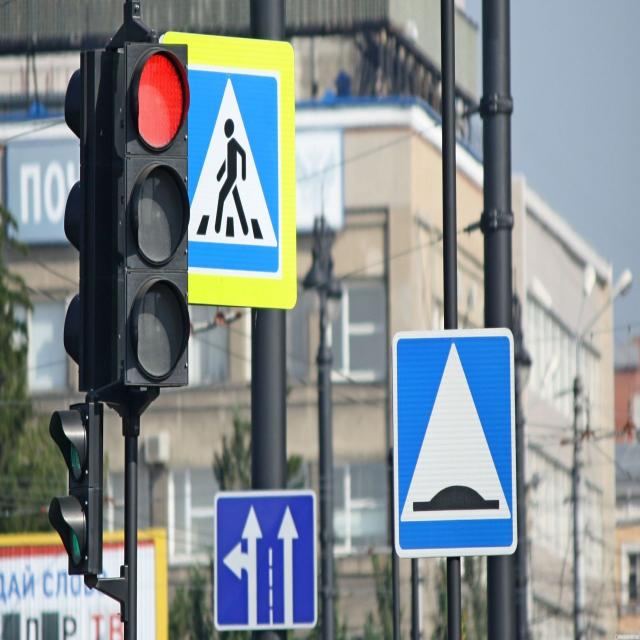Traffic sign: (394, 330, 517, 556), (190, 36, 295, 299), (212, 492, 316, 632)
